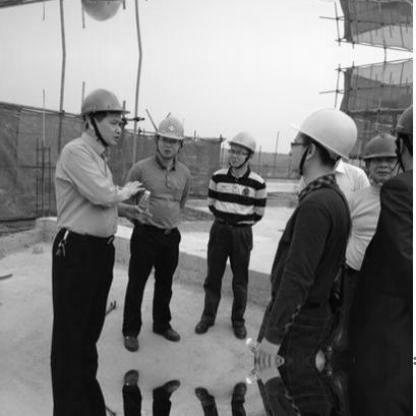helmet: (285, 104, 360, 181), (77, 88, 127, 143), (359, 135, 404, 192), (151, 111, 189, 162), (394, 102, 415, 176), (227, 128, 258, 169), (77, 0, 128, 23)
